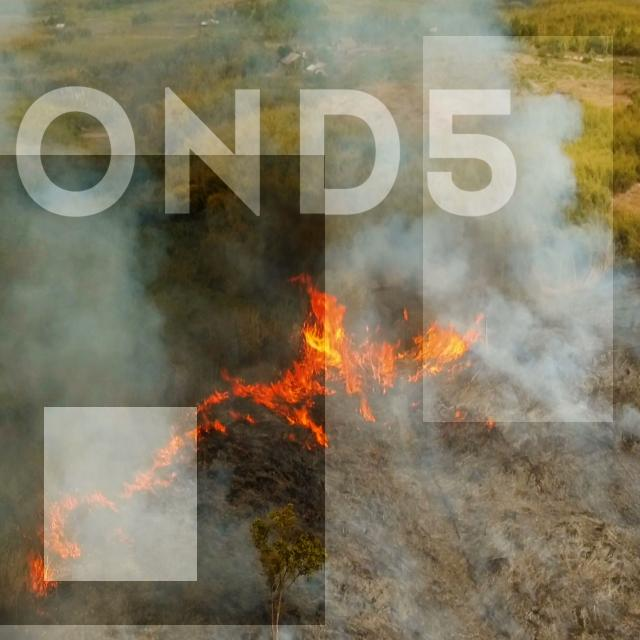Fire: (260, 265, 437, 436), (44, 407, 197, 581)
Smoke: (0, 155, 325, 626), (423, 36, 613, 422)
